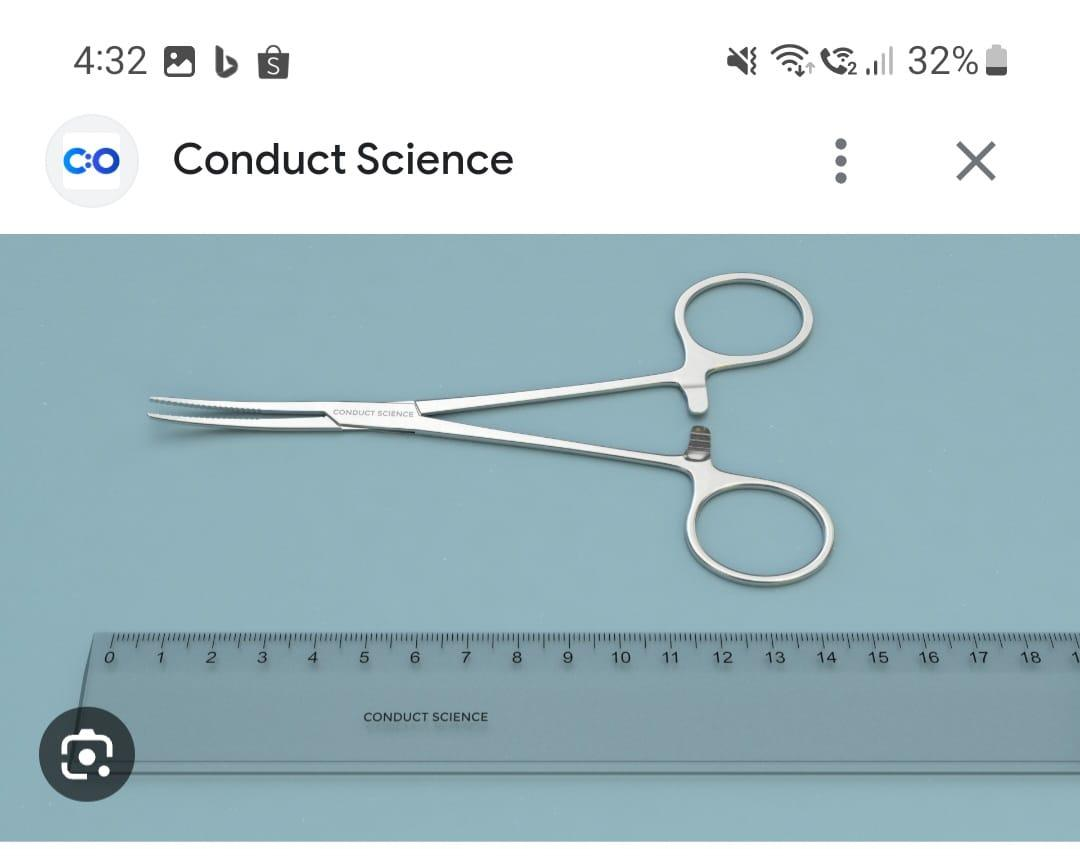Artery Forceps: (139, 269, 850, 603)
